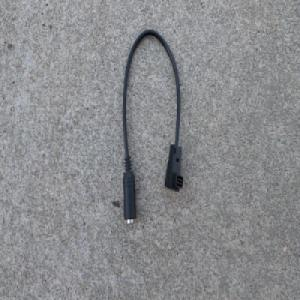Wire: (121, 28, 185, 225)
